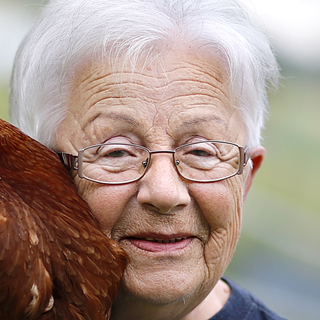eye: (97, 144, 139, 166)
